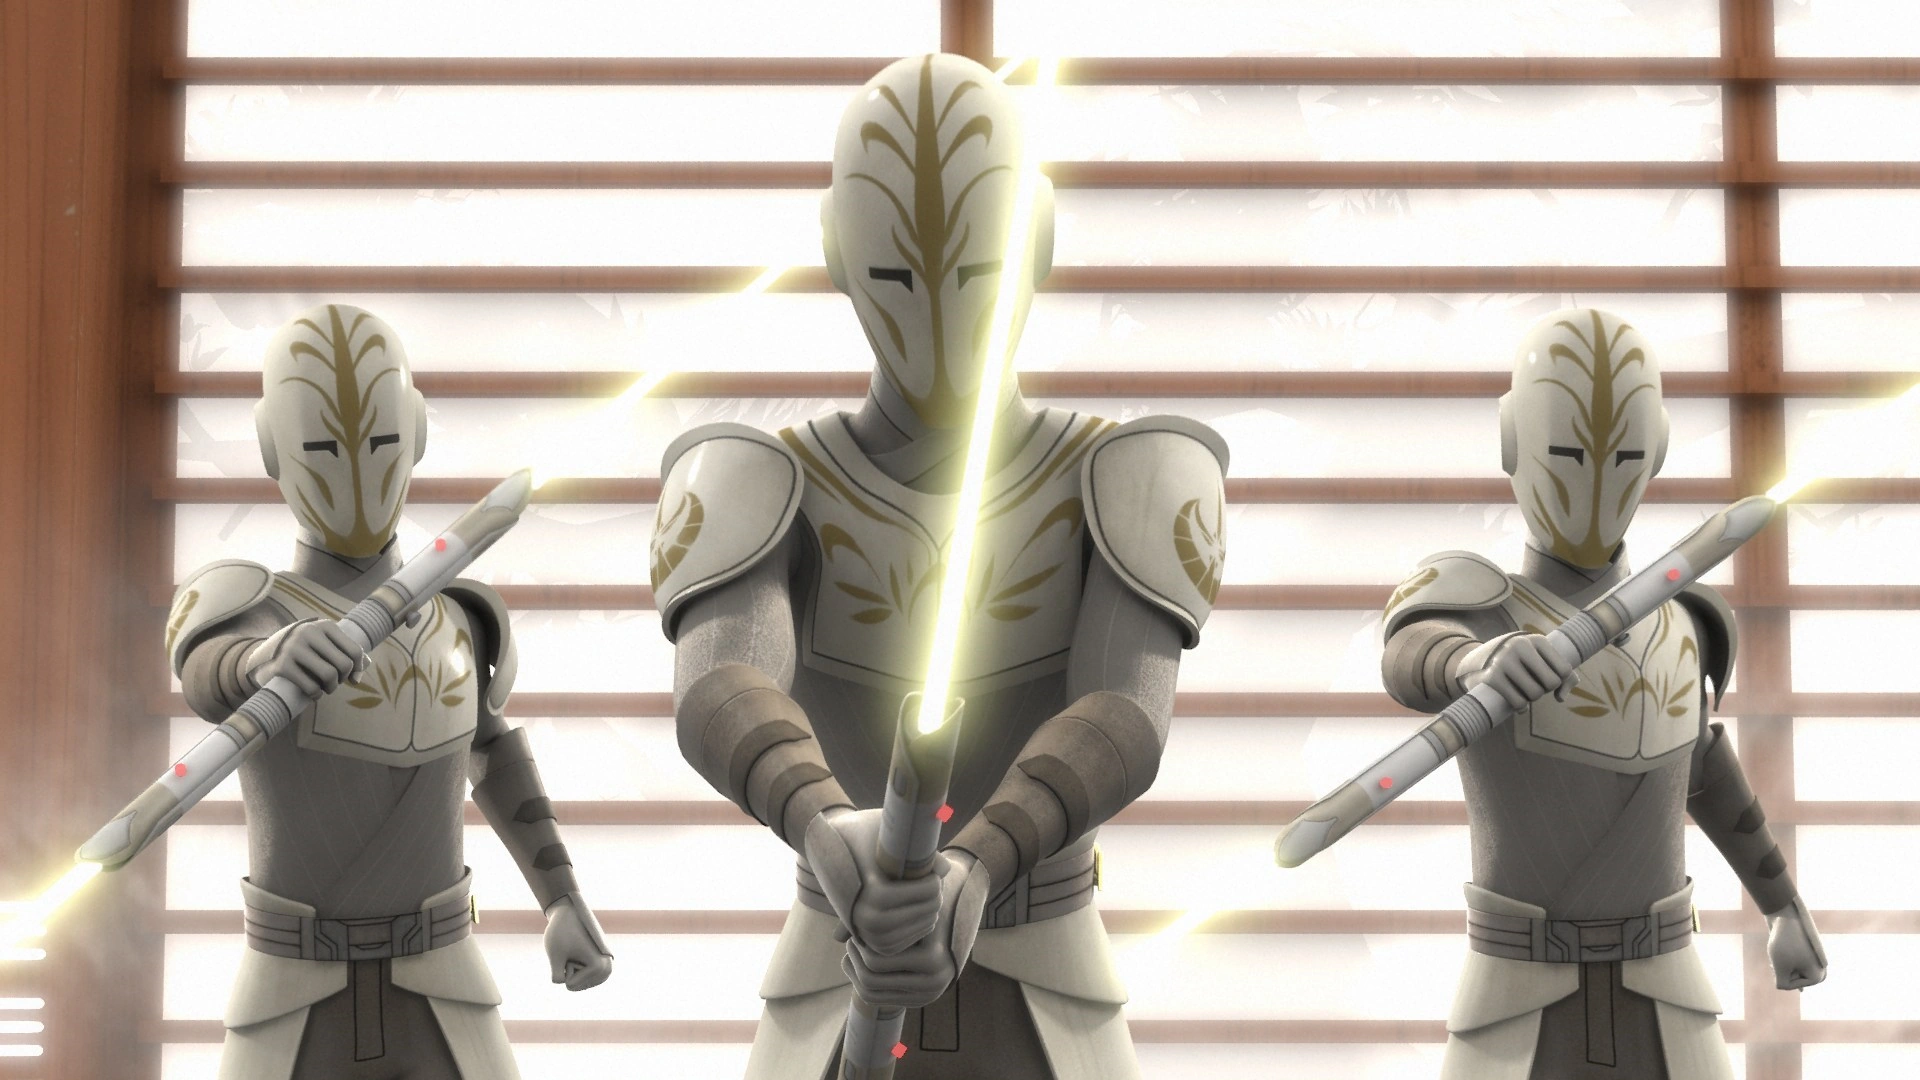Dalek: (0, 199, 820, 985), (1108, 373, 1920, 989)
